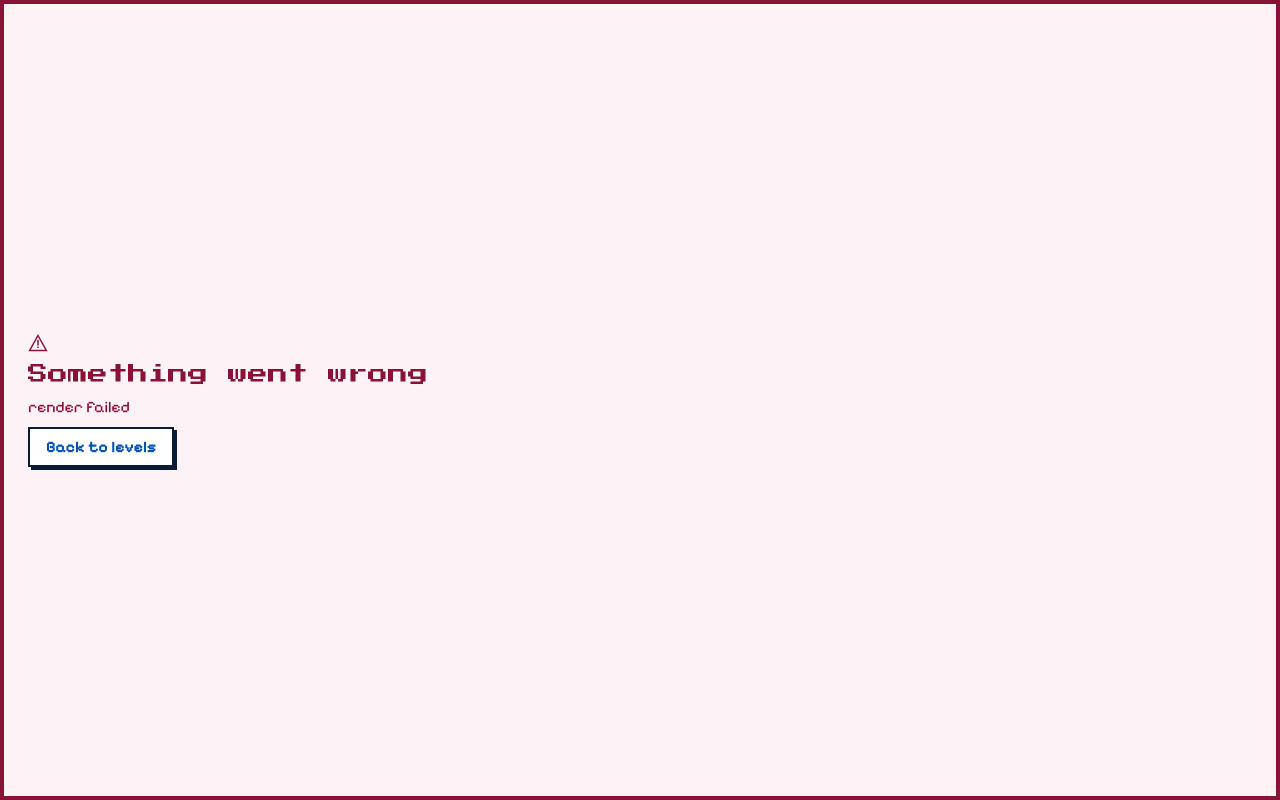
Test: ErrorBoundary › shows the render error and resets to render children again
Expected: the message shows "Something went wrong", [28,364,428,384]
Expected: the message shows "render failed", [28,397,130,416]
Click the button "Back to levels": (101, 447) [28,427,174,467]
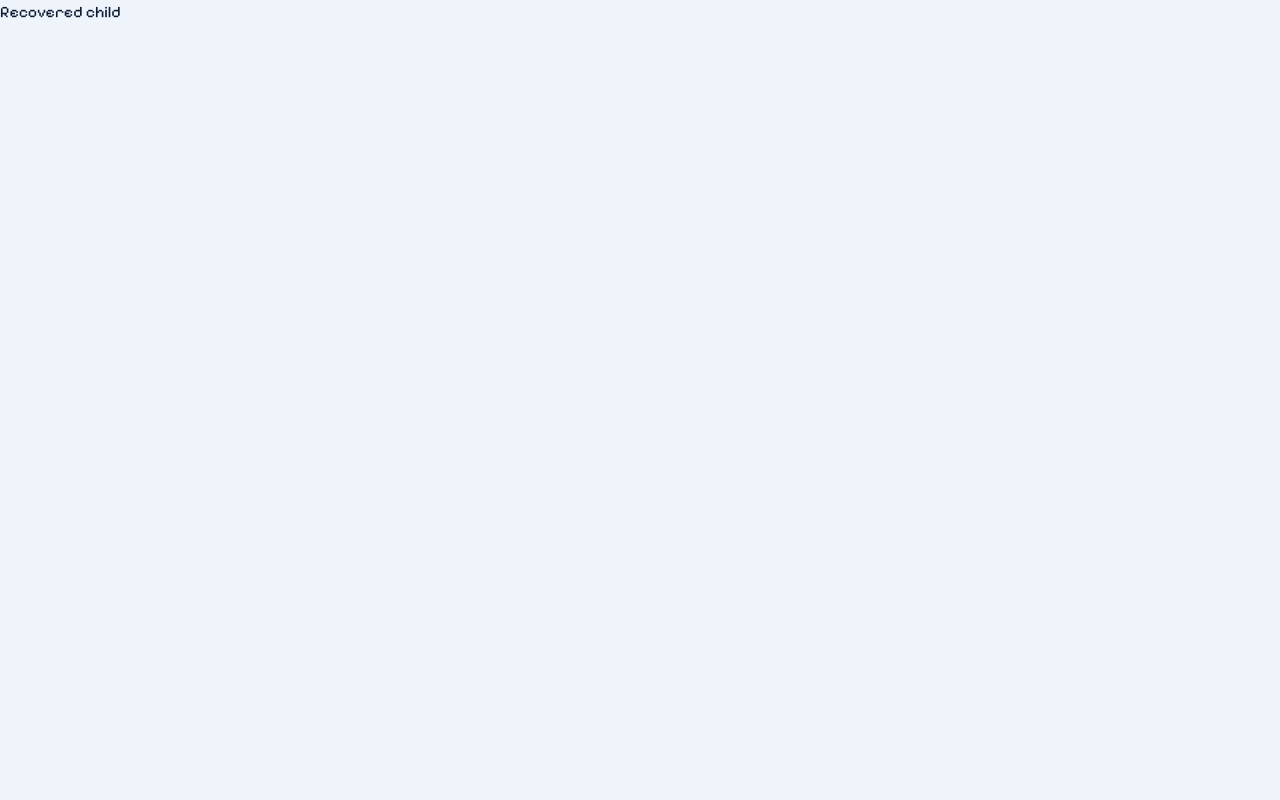
Expected: the text "Recovered child" is shown, [0,2,121,21]
